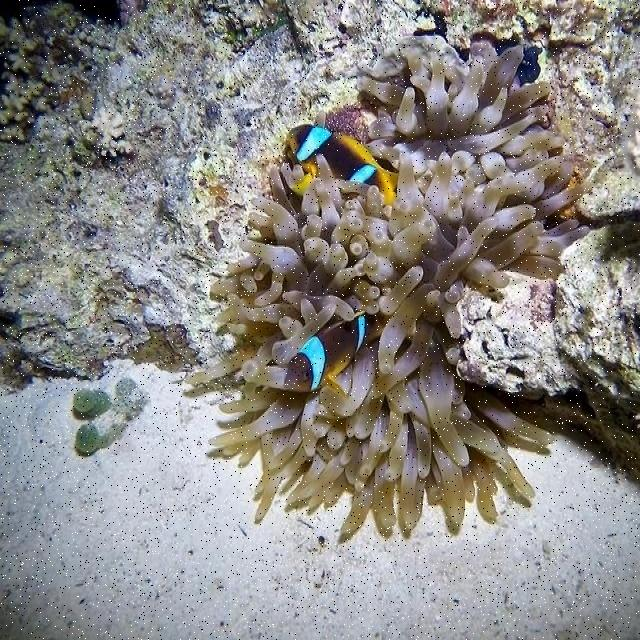fish: (286, 111, 397, 205), (284, 308, 367, 397)
reefs: (183, 35, 591, 539)
